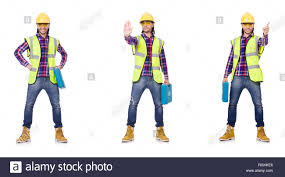Person_wearing_helmet: (31, 10, 55, 27), (236, 10, 256, 26), (136, 10, 156, 23)
